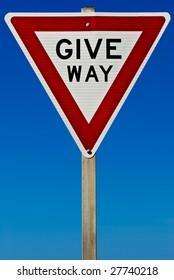Give Way: (6, 12, 174, 147)
